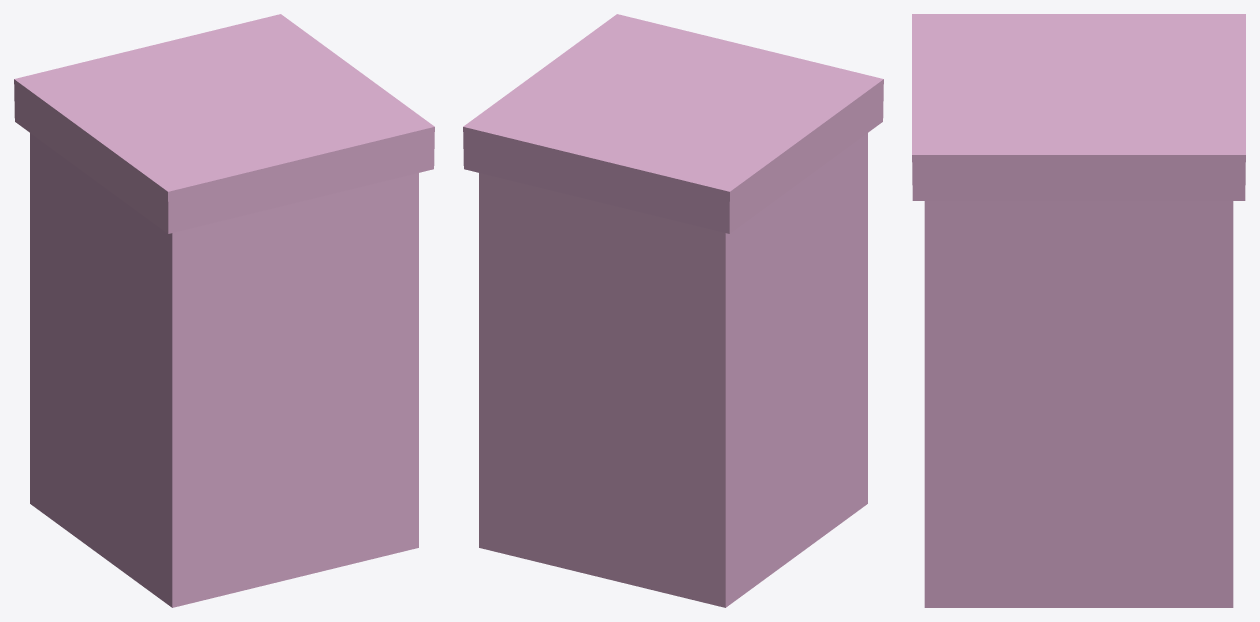
Rendered from BoxBig.fbx.
3 views of the same model, side by side, from view 1: azimuth 30°, elevation 25°; view 2: azimuth 150°, elevation 25°; view 3: azimuth 270°, elevation 25° (orthographic). The views are drawn at different scales.
Parts seen in each view (by area): view 1: BoxBig; view 2: BoxBig; view 3: BoxBig.
Boxes of the visible parts, x1,y1,x2,y2 form: BoxBig: [14, 14, 434, 607]; BoxBig: [463, 14, 883, 607]; BoxBig: [912, 14, 1245, 607].
Bounding box in the file's own units: 33.32 × 50.46 × 33.32.
